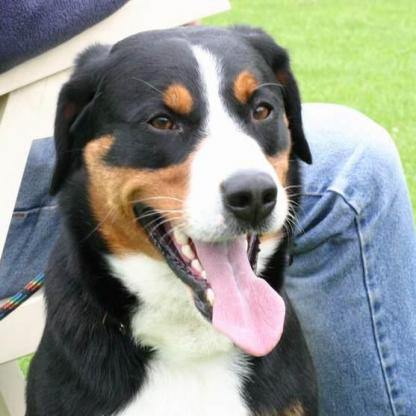EntleBucher: (20, 24, 315, 414)
